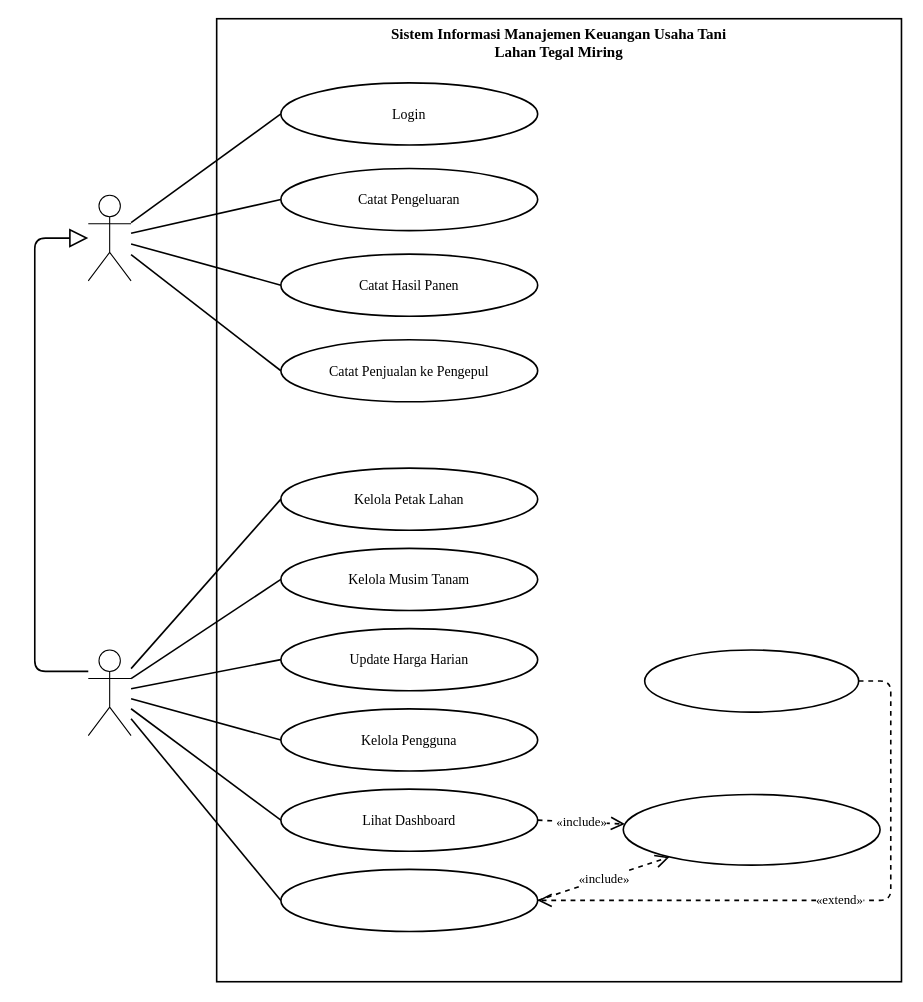
Image size: 923x1002. Some labels were removed from this diagram. The shapes that lost their labels are listed below. From the top down, each one's centre as x and y in pixels, then its label:
At (109,237): "Pencatat".
At (109,692): "Pemilik".
At (751,680): "Cetak Laporan".
At (751,829): "Hitung HPP, R/C, dan Alokasi Biaya Bersama".
At (409,900): "Lihat Laporan Laba Rugi".
